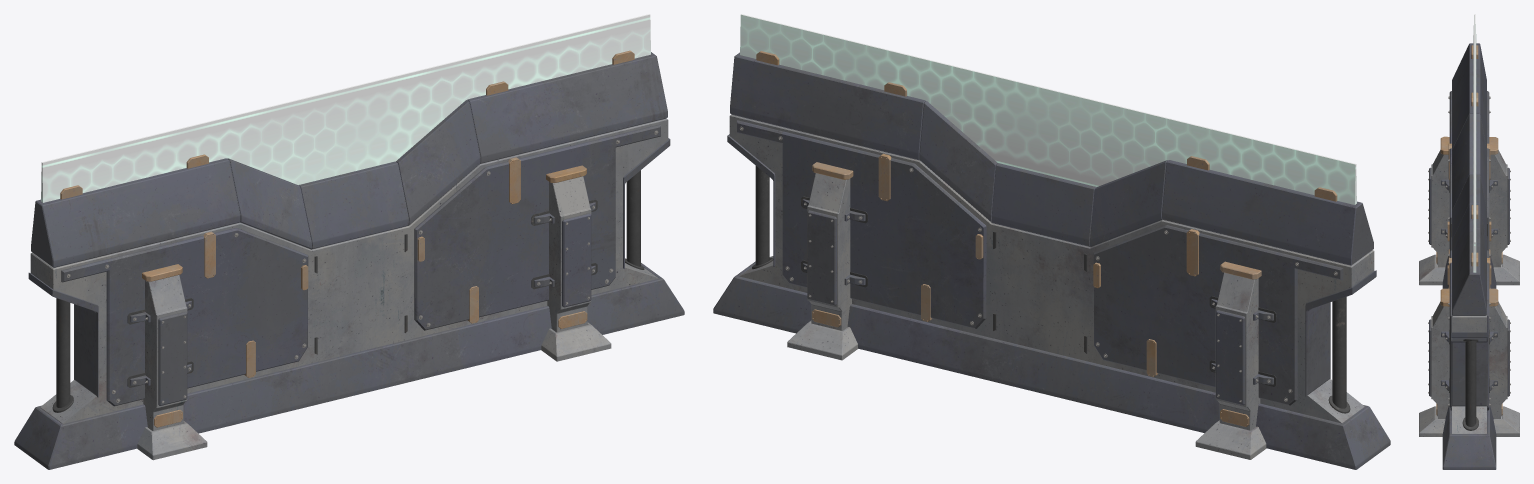
File: KB3D_FTW_PropBarrier_A_grp.glb
3 renders of one model, left to right at view 1: azimuth 30°, elevation 25°; view 2: azimuth 150°, elevation 25°; view 3: azimuth 270°, elevation 25°, orthographic. The views are drawn at different scales.
Parts seen in each view (by area): view 1: KB3D_FTW_PropBarrier_A_Main; view 2: KB3D_FTW_PropBarrier_A_Main; view 3: KB3D_FTW_PropBarrier_A_Main.
Boxes of the visible parts, <box> form: KB3D_FTW_PropBarrier_A_Main: <box>14,14,684,469</box>; KB3D_FTW_PropBarrier_A_Main: <box>713,14,1390,469</box>; KB3D_FTW_PropBarrier_A_Main: <box>1419,14,1519,469</box>.
Size of the model in its own units: 3.75 by 1.63 by 0.6694.
6 materials, 6 textured.
